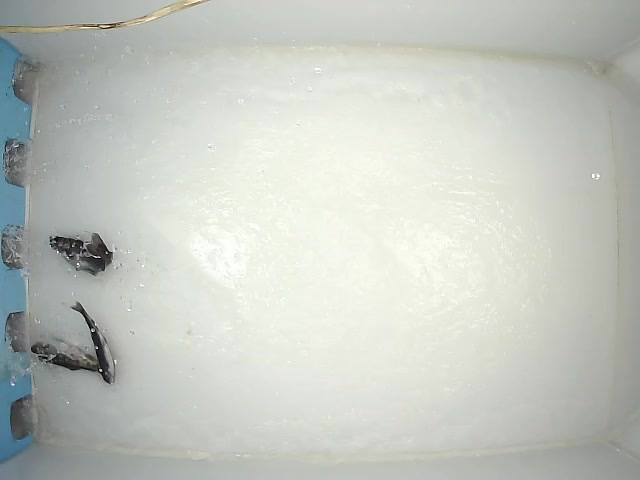fish: (70, 300, 116, 386), (47, 232, 114, 279), (29, 341, 114, 376)
